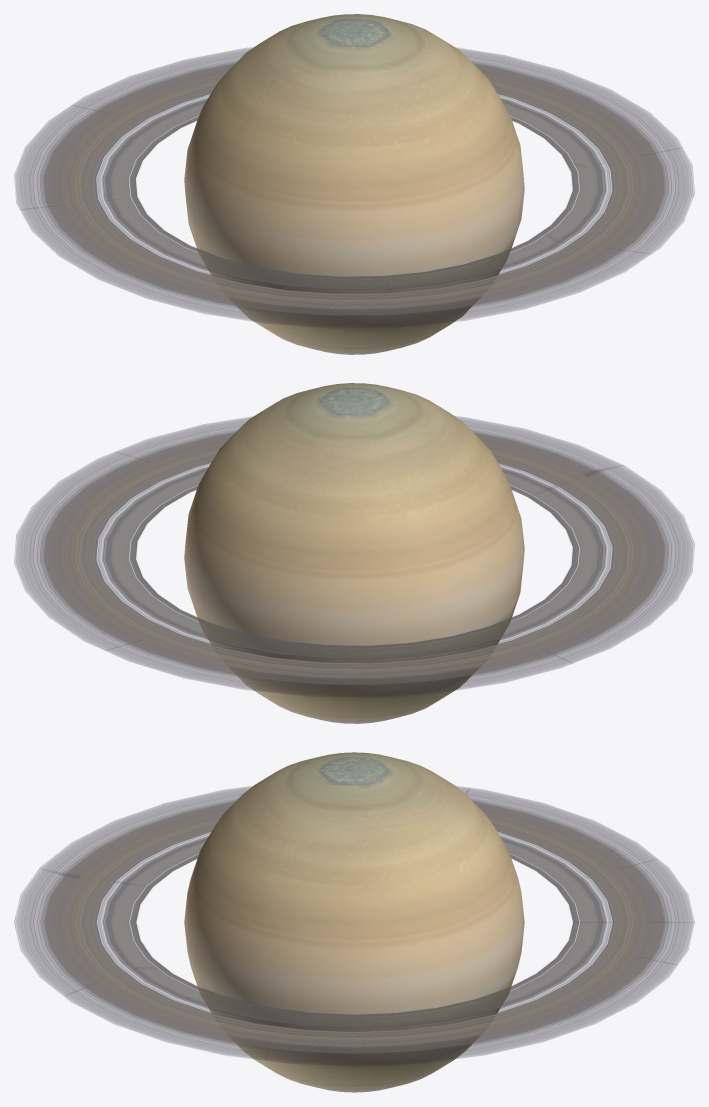
The model's file is saturn.gltf.
3 renders of one model, top to bottom at view 1: azimuth 30°, elevation 25°; view 2: azimuth 150°, elevation 25°; view 3: azimuth 270°, elevation 25°, orthographic.
Parts seen in each view (by area): view 1: Sphere, Circle; view 2: Sphere, Circle; view 3: Sphere, Circle.
Boxes of the visible parts, bbox=[...] form: Sphere: bbox=[184, 14, 524, 354]; Circle: bbox=[14, 47, 694, 327]; Sphere: bbox=[184, 383, 524, 723]; Circle: bbox=[14, 416, 694, 696]; Sphere: bbox=[184, 752, 524, 1092]; Circle: bbox=[14, 786, 694, 1065].
Size of the model in its own units: 2 by 1 by 2.
Materials: 2 (2 with a texture image).
